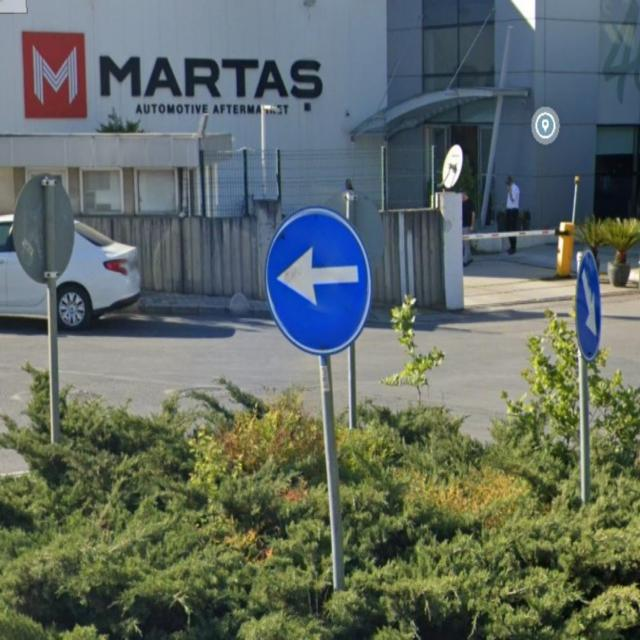Turn Left: (261, 209, 376, 358)
